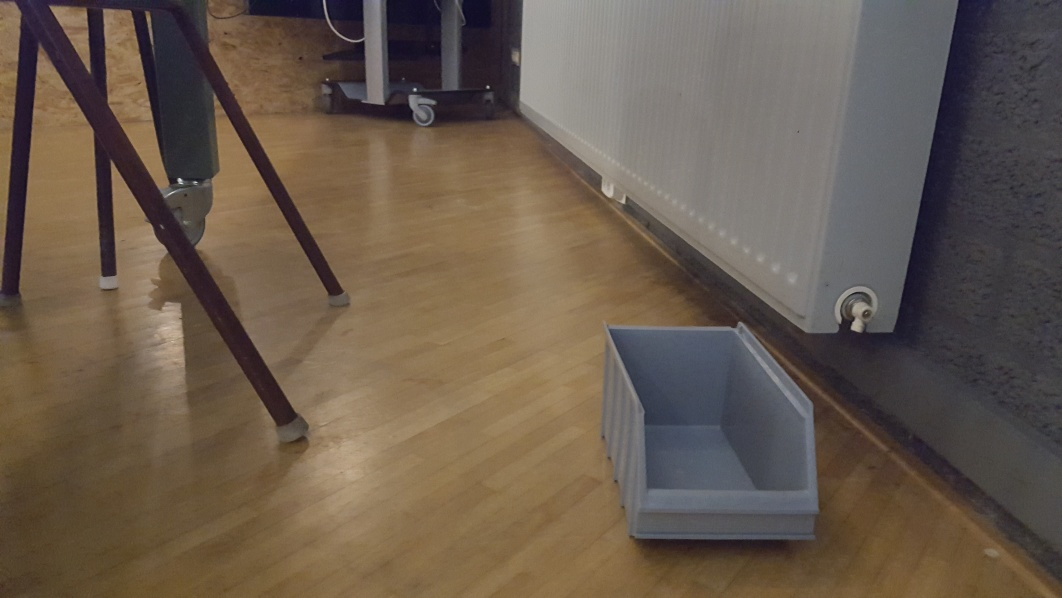tray: (599, 323, 825, 551)
